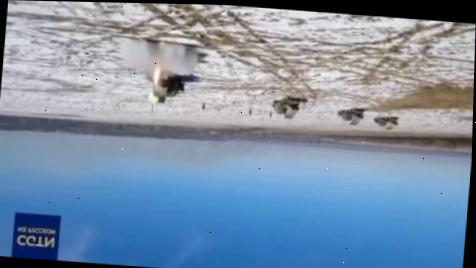person: (246, 104, 252, 116), (267, 109, 272, 118), (200, 102, 205, 110)
rszo: (136, 58, 188, 105), (270, 95, 300, 119), (335, 106, 364, 126), (371, 114, 397, 131)
